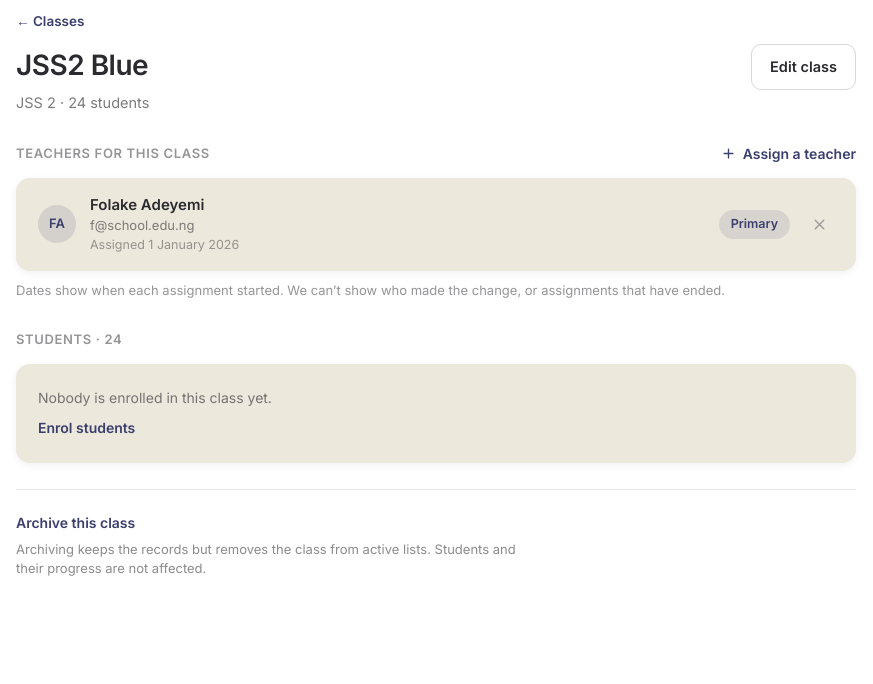
Scenario: ClassDetailView remove a teacher › closes the confirm when the removal actually happened
Click the button named "Remove Folake Adeyemi from this class": point(819, 224) [804,209,834,239]
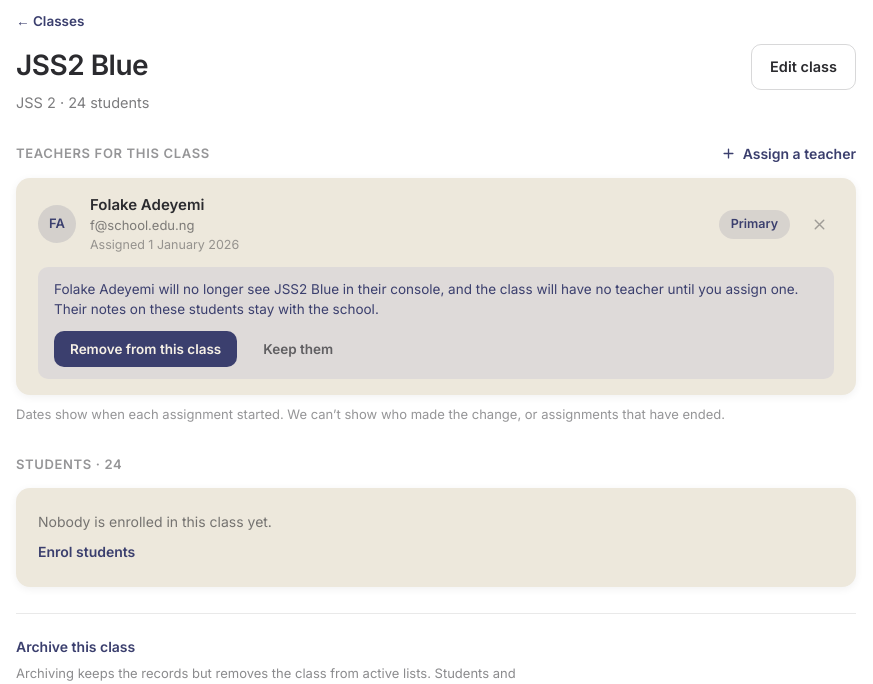
Click the button "Remove from this class": point(146, 349) [54,331,237,367]
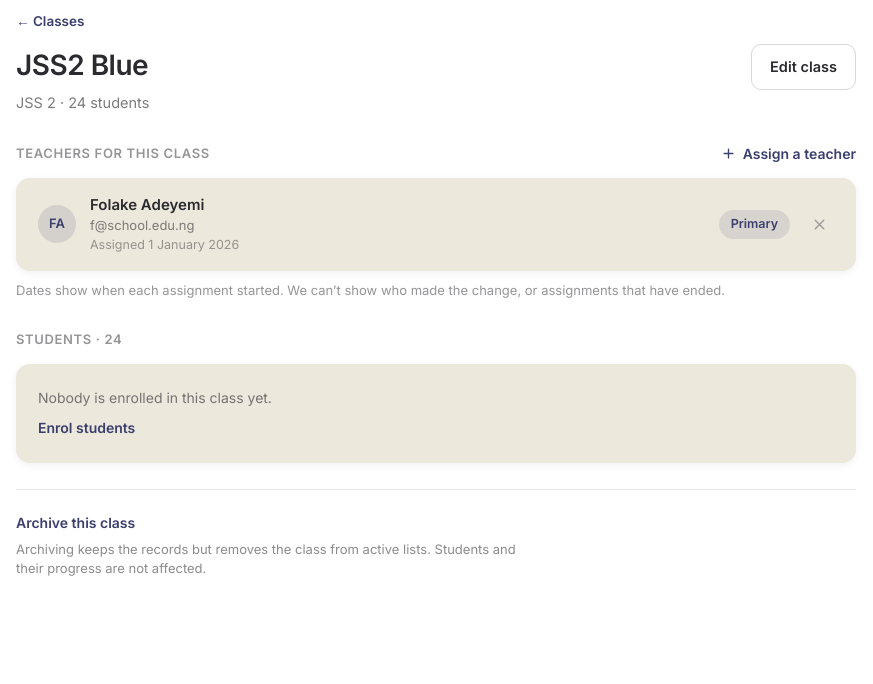
Now the button "Remove from this class" is gone
